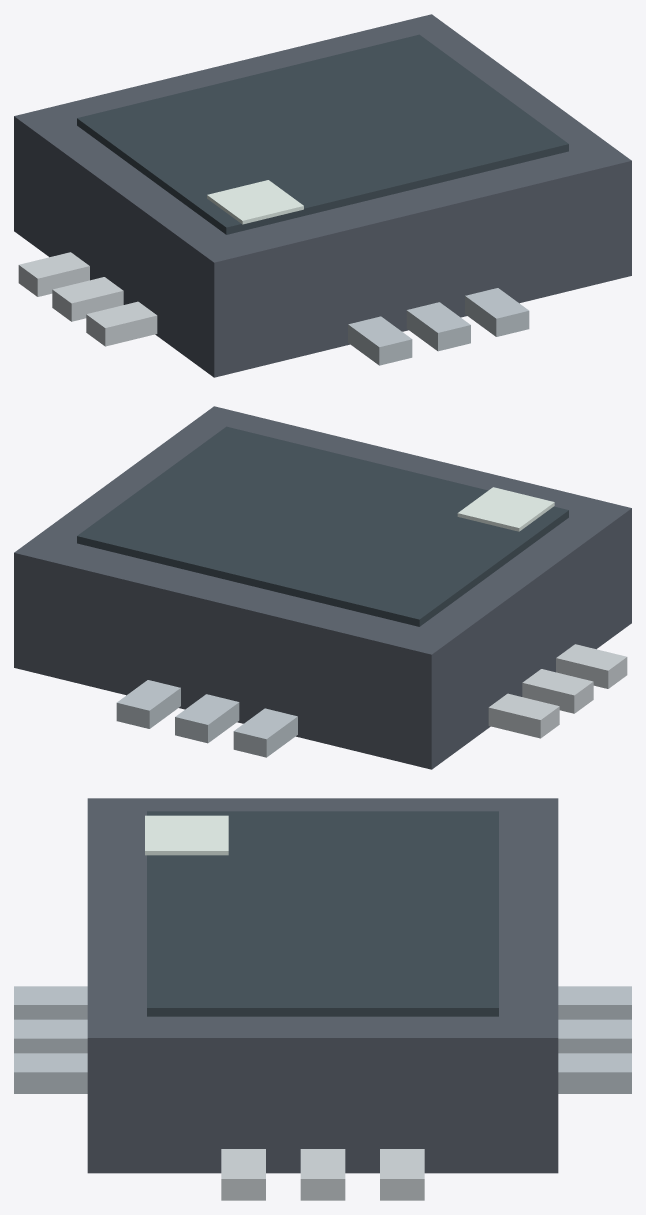
3 renders of one model, top to bottom at view 1: azimuth 30°, elevation 25°; view 2: azimuth 150°, elevation 25°; view 3: azimuth 270°, elevation 25°, orthographic. The views are drawn at different scales.
Parts seen in each view (by area): view 1: 0000__PSMAT__chip_black, 0001__PSMAT__silicon_black, 0002__PSMAT__silkscreen, 0007__PSMAT__tin, 0010__PSMAT__solder, 0012__PSMAT__solder, 0014__PSMAT__solder, 0003__PSMAT__tin, 0005__PSMAT__tin; view 2: 0000__PSMAT__chip_black, 0001__PSMAT__silicon_black, 0002__PSMAT__silkscreen, 0003__PSMAT__tin, 0004__PSMAT__solder, 0006__PSMAT__solder, 0008__PSMAT__solder, 0005__PSMAT__tin, 0007__PSMAT__tin; view 3: 0000__PSMAT__chip_black, 0001__PSMAT__silicon_black, 0002__PSMAT__silkscreen, 0008__PSMAT__solder, 0014__PSMAT__solder, 0006__PSMAT__solder, 0012__PSMAT__solder, 0004__PSMAT__solder, 0010__PSMAT__solder, 0011__PSMAT__tin, 0009__PSMAT__tin, 0013__PSMAT__tin.
Part boxes in pixels (x1,y1,x2,y2): 0000__PSMAT__chip_black: [14, 14, 631, 377]; 0001__PSMAT__silicon_black: [77, 34, 568, 234]; 0002__PSMAT__silkscreen: [207, 180, 303, 224]; 0007__PSMAT__tin: [86, 301, 157, 346]; 0010__PSMAT__solder: [348, 316, 412, 365]; 0012__PSMAT__solder: [406, 302, 470, 351]; 0014__PSMAT__solder: [465, 288, 529, 336]; 0003__PSMAT__tin: [18, 252, 89, 296]; 0005__PSMAT__tin: [52, 277, 123, 321]; 0000__PSMAT__chip_black: [14, 406, 631, 769]; 0001__PSMAT__silicon_black: [77, 426, 568, 626]; 0002__PSMAT__silkscreen: [457, 487, 554, 531]; 0003__PSMAT__tin: [488, 693, 559, 738]; 0004__PSMAT__solder: [233, 708, 297, 757]; 0006__PSMAT__solder: [175, 694, 239, 743]; 0008__PSMAT__solder: [116, 680, 180, 728]; 0005__PSMAT__tin: [522, 669, 593, 713]; 0007__PSMAT__tin: [556, 644, 627, 688]; 0000__PSMAT__chip_black: [87, 798, 558, 1173]; 0001__PSMAT__silicon_black: [147, 811, 498, 1016]; 0002__PSMAT__silkscreen: [145, 815, 228, 855]; 0008__PSMAT__solder: [558, 1053, 631, 1093]; 0014__PSMAT__solder: [14, 1053, 87, 1093]; 0006__PSMAT__solder: [558, 1019, 631, 1053]; 0012__PSMAT__solder: [14, 1019, 87, 1053]; 0004__PSMAT__solder: [558, 986, 631, 1019]; 0010__PSMAT__solder: [14, 986, 87, 1019]; 0011__PSMAT__tin: [300, 1149, 345, 1200]; 0009__PSMAT__tin: [380, 1149, 424, 1200]; 0013__PSMAT__tin: [221, 1149, 265, 1200].
Size of the model in its own units: 0.0119 by 0.00274 by 0.0104.
